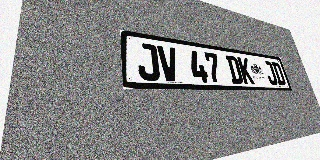4: (188, 50, 209, 83)
7: (203, 52, 223, 83)
D: (225, 55, 244, 84), (271, 62, 287, 85)
J: (136, 42, 161, 81), (262, 61, 279, 85)
K: (237, 57, 255, 84)
V: (157, 45, 180, 82)
